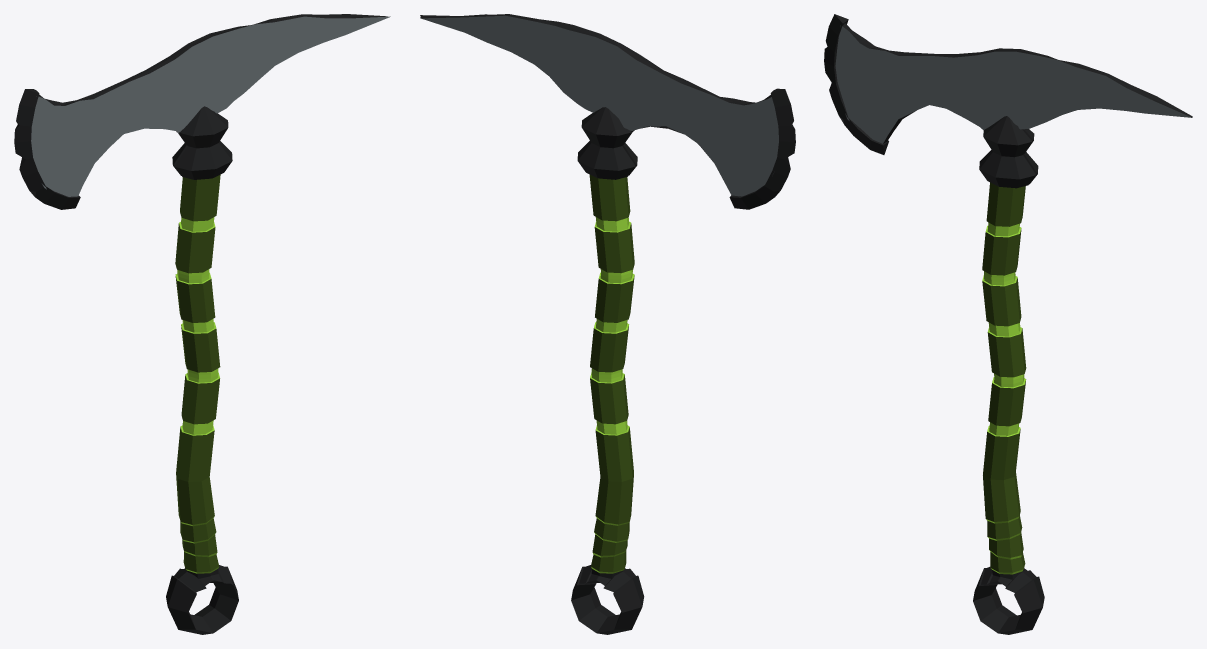
Rendered from Hacha.fbx.
3 renders of one model, left to right at view 1: azimuth 30°, elevation 25°; view 2: azimuth 150°, elevation 25°; view 3: azimuth 330°, elevation 25°, orthographic.
Parts seen in each view (by area): view 1: Cube; view 2: Cube; view 3: Cube.
Part boxes in pixels (<box>): Cube: <box>14,14,390,634</box>; Cube: <box>420,14,795,634</box>; Cube: <box>824,14,1192,634</box>.
Size of the model in its own units: 1507 by 2293 by 188.
1 material, 1 textured.
